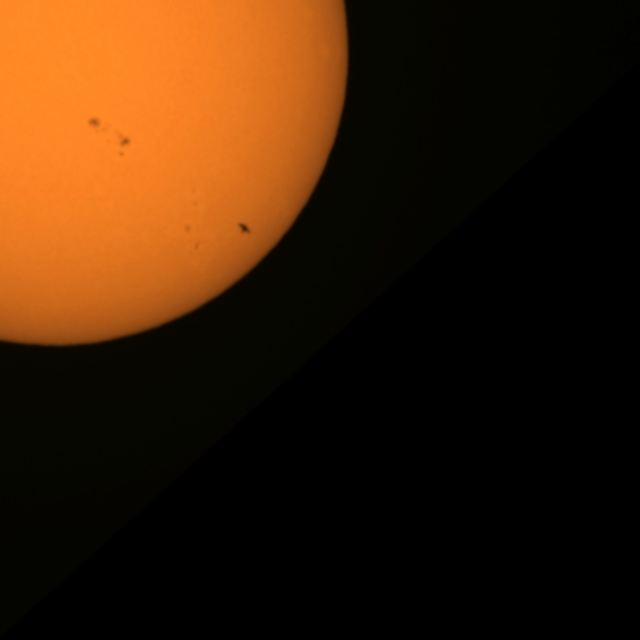sunspot: (86, 114, 133, 156), (116, 133, 133, 159), (85, 114, 104, 135), (236, 220, 253, 237), (182, 222, 193, 236)
